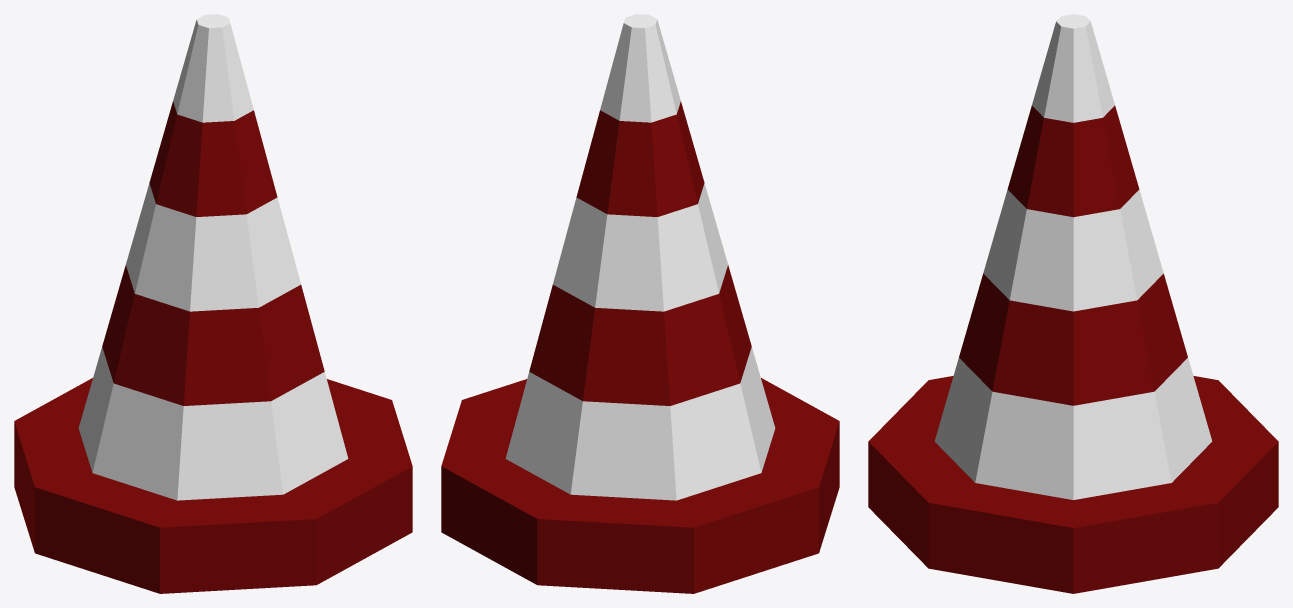
File: traffic_Cone_New.fbx
3 views of the same model, side by side, from view 1: azimuth 30°, elevation 25°; view 2: azimuth 150°, elevation 25°; view 3: azimuth 270°, elevation 25° (orthographic).
Parts seen in each view (by area): view 1: traffic_Cone_New; view 2: traffic_Cone_New; view 3: traffic_Cone_New.
Part boxes in pixels (bbox=[...]): traffic_Cone_New: bbox=[14, 14, 412, 593]; traffic_Cone_New: bbox=[441, 14, 839, 593]; traffic_Cone_New: bbox=[868, 14, 1278, 593].
Bounding box in the file's own units: 69.68 × 91.12 × 69.68.
